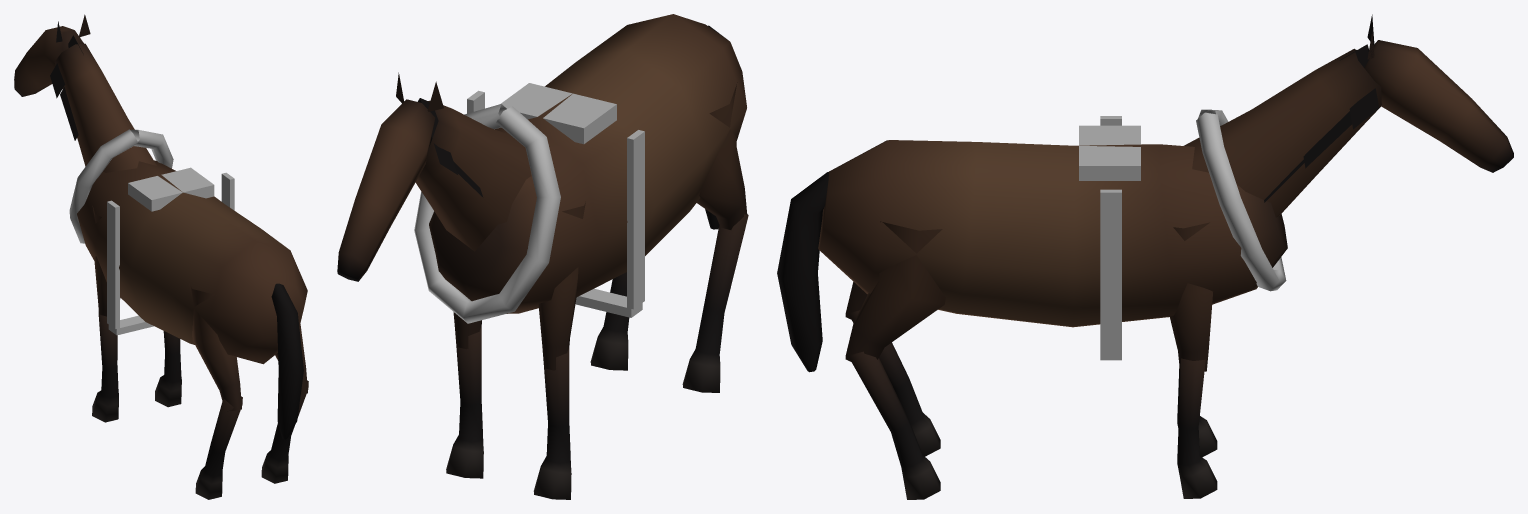
File: chr_horse.glb
3 views of the same model, side by side, from view 1: azimuth 30°, elevation 25°; view 2: azimuth 150°, elevation 25°; view 3: azimuth 270°, elevation 25° (orthographic). The views are drawn at different scales.
Parts seen in each view (by area): view 1: Body, Neck, Tail, LegHL, ShinHL, ShinFL, ShinFR, ShinHR, LegFL; view 2: Body, Neck, ShinHL, ShinFL, ShinFR, LegHL, LegFL, ShinHR, LegFR; view 3: Body, Neck, Tail, LegHR, ShinHR, ShinFR, LegFR, ShinHL.
Part boxes in pixels (x1=…): Body: x1=69, y1=129, x2=307, y2=364; Neck: x1=14, y1=14, x2=156, y2=172; Tail: x1=271, y1=283, x2=303, y2=439; LegHL: x1=189, y1=283, x2=241, y2=411; ShinHL: x1=195, y1=396, x2=242, y2=499; ShinFL: x1=92, y1=311, x2=118, y2=422; ShinFR: x1=155, y1=331, x2=181, y2=407; ShinHR: x1=261, y1=380, x2=308, y2=483; LegFL: x1=92, y1=206, x2=120, y2=316; Body: x1=414, y1=14, x2=746, y2=323; Neck: x1=337, y1=72, x2=531, y2=281; ShinHL: x1=682, y1=214, x2=748, y2=392; ShinFL: x1=533, y1=347, x2=571, y2=499; ShinFR: x1=446, y1=325, x2=483, y2=478; LegHL: x1=697, y1=82, x2=747, y2=229; LegFL: x1=538, y1=201, x2=585, y2=370; ShinHR: x1=590, y1=272, x2=629, y2=370; LegFR: x1=453, y1=312, x2=481, y2=349; Body: x1=818, y1=109, x2=1287, y2=360; Neck: x1=1184, y1=14, x2=1513, y2=217; Tail: x1=777, y1=172, x2=828, y2=372; LegHR: x1=845, y1=221, x2=945, y2=364; ShinHR: x1=848, y1=351, x2=940, y2=499; ShinFR: x1=1177, y1=358, x2=1217, y2=498; LegFR: x1=1169, y1=222, x2=1212, y2=371; ShinHL: x1=848, y1=310, x2=940, y2=456.
Size of the model in its own units: 0.76 by 2.09 by 3.09.
